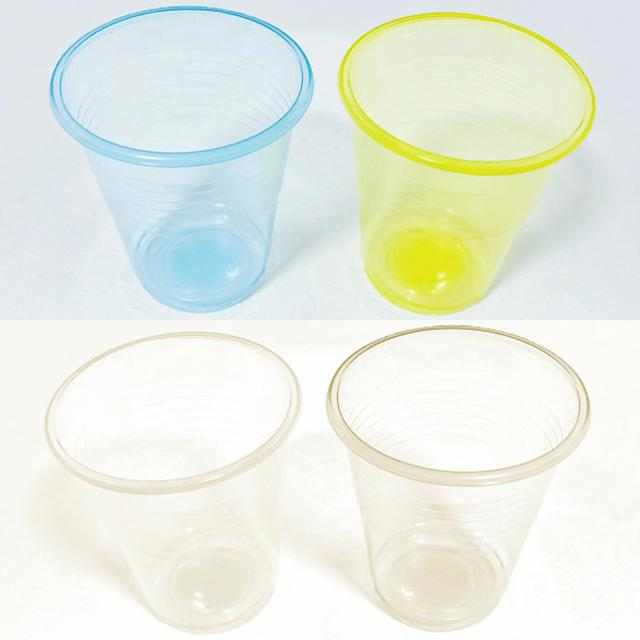Single-Use-Plastic: (50, 8, 312, 312), (328, 328, 589, 631), (339, 12, 595, 314), (48, 332, 300, 632)
